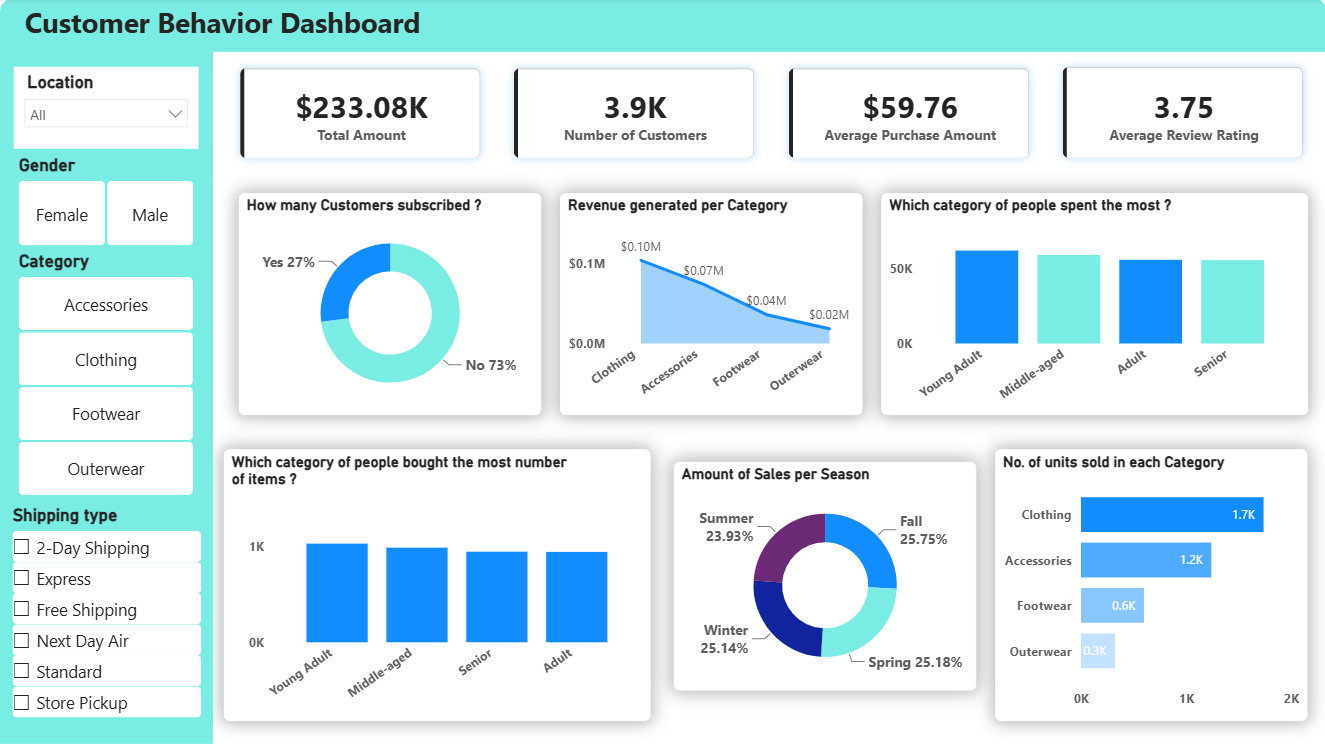

This screenshot's page, from the dashboard's own definition file:
{"tool":"powerbi","page":{"name":"Page 1","canvas":[1280,720],"ordinal":0},"visuals":[{"type":"cardVisual","fields":{"Data":["customer_behavior customer.Average Purchase Amount"]},"box":[745.1,52.1,264.8,119.4],"z":0},{"type":"cardVisual","fields":{"Data":["customer_behavior customer.Number of Customers"]},"box":[480.3,52.1,264.8,119.4],"z":1000},{"type":"cardVisual","fields":{"Data":["customer_behavior customer.Average Review Rating"]},"box":[1010,50.8,264.8,120.8],"z":2000},{"type":"donutChart","title":"How many Customers subscribed ?","fields":{"Category":["customer_behavior customer.subscription_status"],"Y":["Count(customer_behavior customer.customer_id)"]},"box":[230.5,188,292.3,214.1],"z":3000},{"type":"barChart","title":"No. of units sold in each Category","fields":{"Y":["CountNonNull(customer_behavior customer.customer_id)"],"Category":["customer_behavior customer.category"]},"box":[960.6,435,301.9,262.1],"z":4000},{"type":"areaChart","title":"Revenue generated per Category","fields":{"Category":["customer_behavior customer.category"],"Y":["Sum(customer_behavior customer.purchase_amount)"]},"box":[540.7,188,292.3,214.1],"z":5000},{"type":"columnChart","title":"Which category of people spent the most ?","fields":{"Category":["customer_behavior customer.age_group"],"Y":["Sum(customer_behavior customer.purchase_amount)"]},"box":[850.8,188,411.7,214.1],"z":6000},{"type":"cardVisual","fields":{"Data":["Sum(customer_behavior customer.purchase_amount)"]},"box":[215.4,52.1,264.8,119.4],"z":7000},{"type":"donutChart","title":"Amount of Sales per Season","fields":{"Category":["customer_behavior customer.season"],"Y":["Sum(customer_behavior customer.purchase_amount)"]},"box":[650.4,447.3,292.3,220.9],"z":8000},{"type":"columnChart","title":"Which category of people bought the most number of items ?","fields":{"Category":["customer_behavior customer.age_group"],"Y":["Count(customer_behavior customer.customer_id)"]},"box":[215.4,435,411.7,262.1],"z":9000},{"type":"shape","box":[0,0,1280.3,52.1],"z":10000},{"type":"textbox","box":[0,0,429.5,52.1],"z":11000},{"type":"shape","box":[0,52.1,205.8,668.3],"z":12000},{"type":"advancedSlicerVisual","title":"Gender","fields":{"Values":["customer_behavior customer.gender"]},"box":[13.7,150.9,178.4,93.3],"z":14000},{"type":"advancedSlicerVisual","title":"Category","fields":{"Values":["customer_behavior customer.category"]},"box":[13.7,244.3,178.4,244.3],"z":15000},{"type":"listSlicer","title":"Shipping type","fields":{"Values":["customer_behavior customer.shipping_type"]},"box":[6.9,488.5,192.1,231.9],"z":16000},{"type":"slicer","fields":{"Values":["customer_behavior customer.location"]},"box":[13.7,65.9,178.4,79.6],"z":17000}]}

Visuals, with their boxes in screenshot pixels (x1, y1, x2, y2), scaled from the page's 1280x720 canvas onto the 1325x744 screenshot:
cardVisual - customer_behavior customer.Average Purchase Amount: crop(771, 54, 1045, 177)
cardVisual - customer_behavior customer.Number of Customers: crop(497, 54, 771, 177)
cardVisual - customer_behavior customer.Average Review Rating: crop(1046, 52, 1320, 177)
"How many Customers subscribed ?" donutChart: crop(239, 194, 541, 416)
"No. of units sold in each Category" barChart: crop(994, 450, 1307, 720)
"Revenue generated per Category" areaChart: crop(560, 194, 862, 416)
"Which category of people spent the most ?" columnChart: crop(881, 194, 1307, 416)
cardVisual - Sum(customer_behavior customer.purchase_amount): crop(223, 54, 497, 177)
"Amount of Sales per Season" donutChart: crop(673, 462, 976, 690)
"Which category of people bought the most number of items ?" columnChart: crop(223, 450, 649, 720)
shape: crop(0, 0, 1324, 54)
textbox: crop(0, 0, 445, 54)
shape: crop(0, 54, 213, 743)
"Gender" advancedSlicerVisual: crop(14, 156, 199, 252)
"Category" advancedSlicerVisual: crop(14, 252, 199, 505)
"Shipping type" listSlicer: crop(7, 505, 206, 743)
slicer - customer_behavior customer.location: crop(14, 68, 199, 150)
